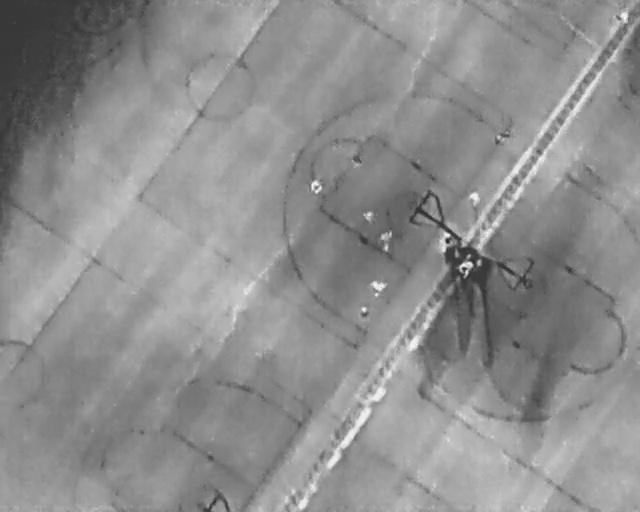Person: (488, 123, 514, 150), (365, 277, 390, 301), (435, 230, 457, 256), (379, 230, 394, 254), (456, 259, 474, 279), (308, 178, 324, 197), (347, 152, 363, 170), (467, 191, 481, 208), (611, 11, 630, 23), (362, 209, 376, 223), (358, 306, 368, 318)
